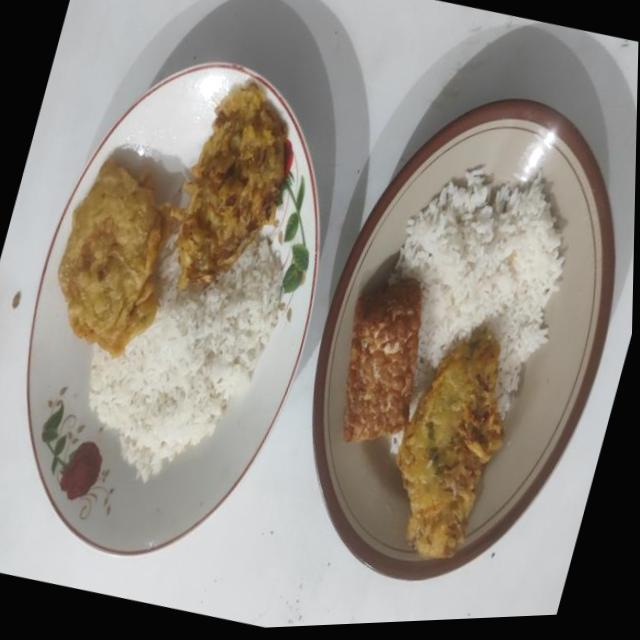nasi_putih: (88, 233, 283, 481), (394, 165, 564, 418)
tempe_goreng: (343, 279, 421, 442)
